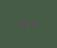eight: (18, 20, 23, 28)
six: (31, 19, 36, 27)
two: (25, 20, 30, 27)
